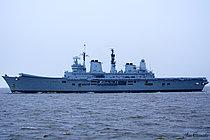MIL_Ship: (1, 48, 209, 93)
